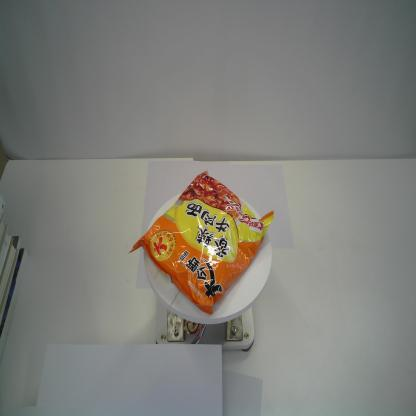Instant Noodles: (127, 167, 276, 316)
